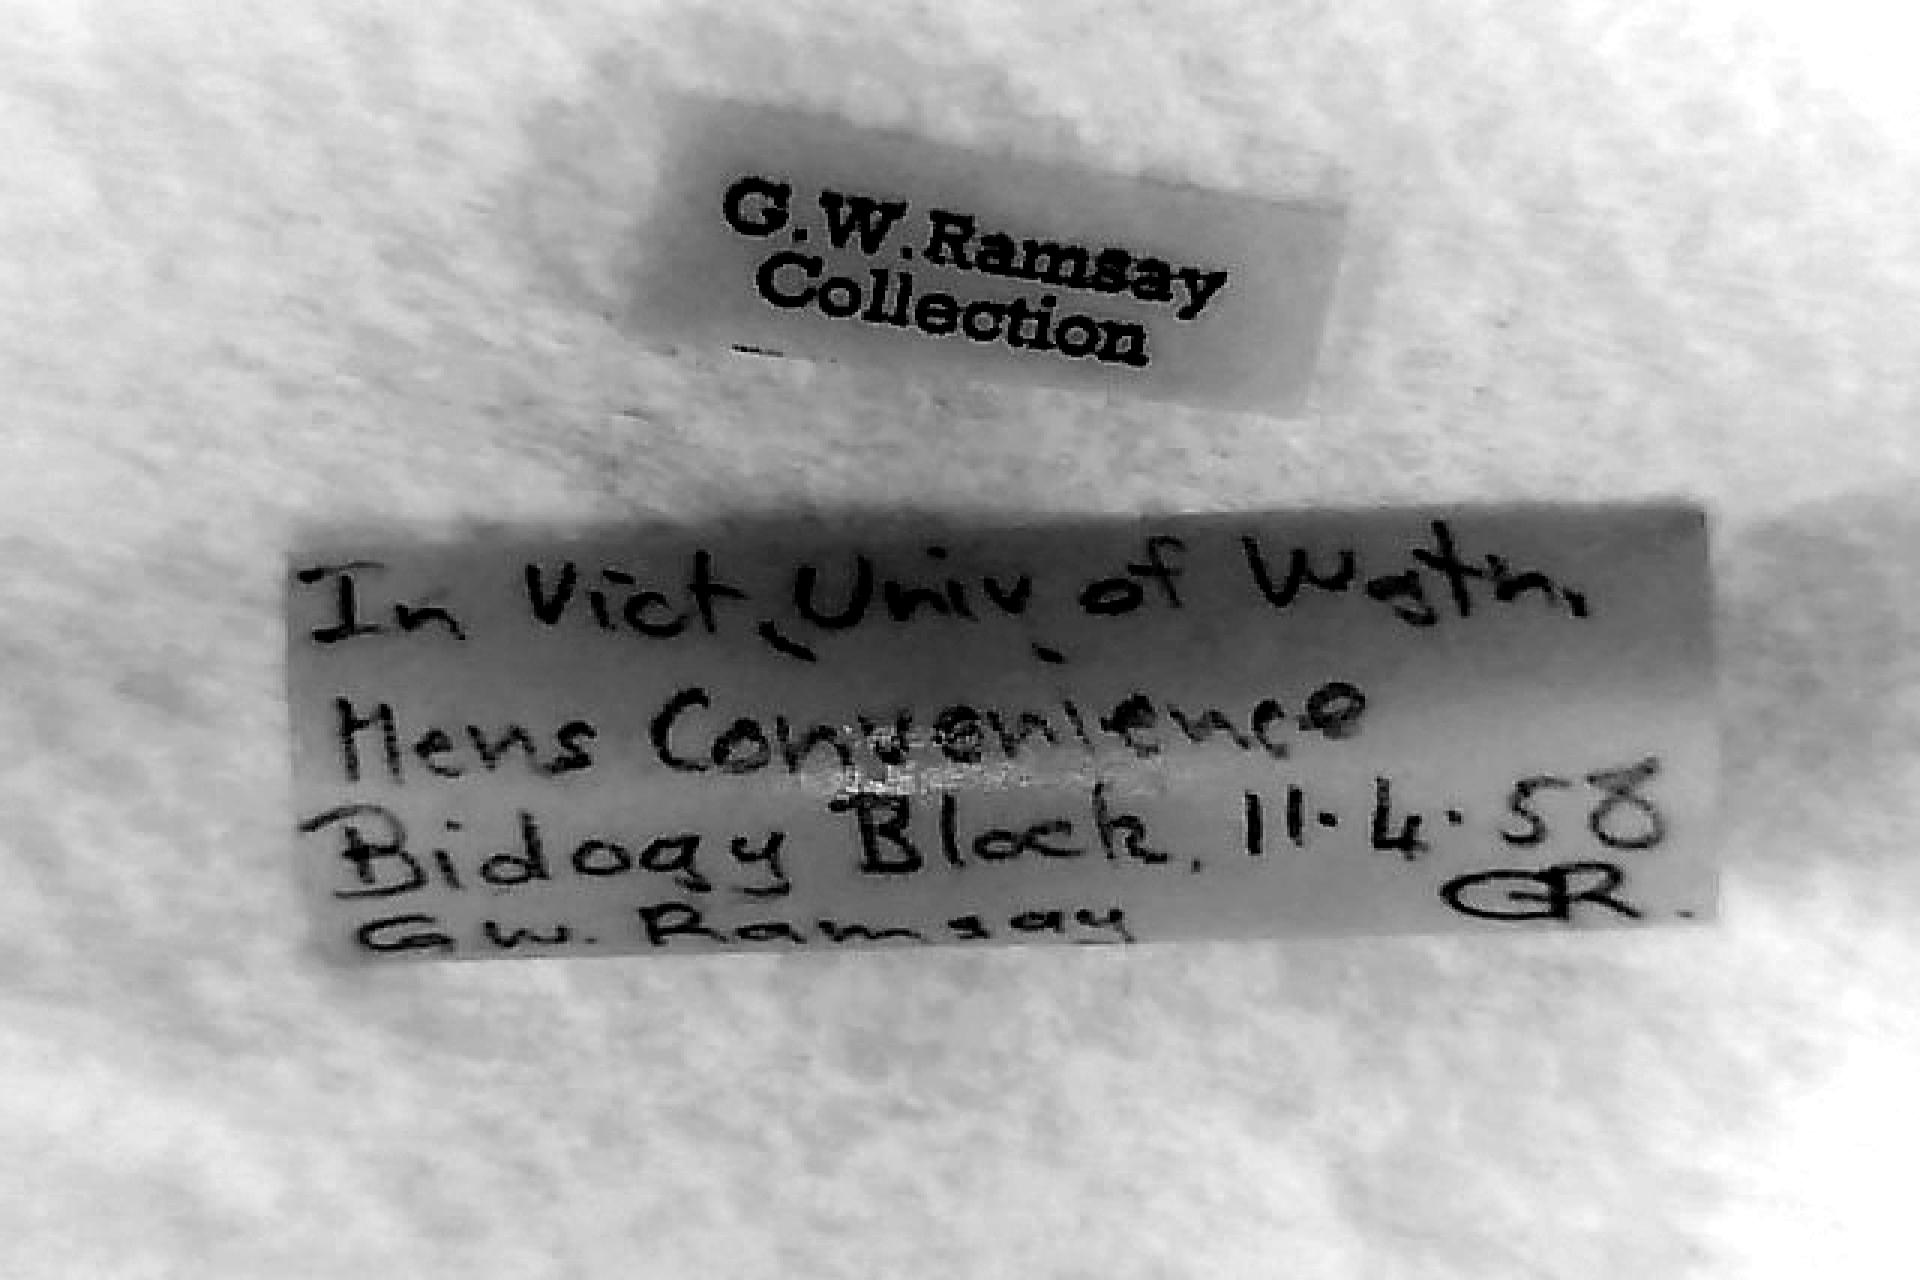hand_label: (289, 515, 1718, 960)
typed_label: (632, 103, 1342, 412)
